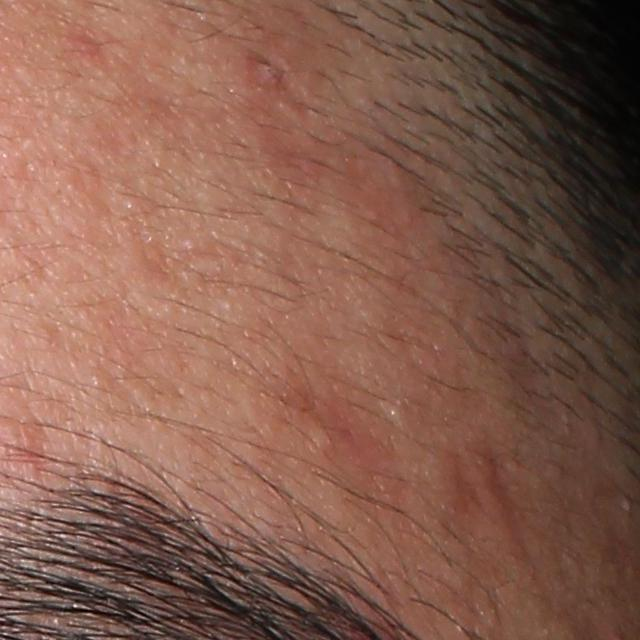atrophic_scar: (240, 49, 330, 185), (335, 131, 415, 225), (450, 456, 493, 525)
